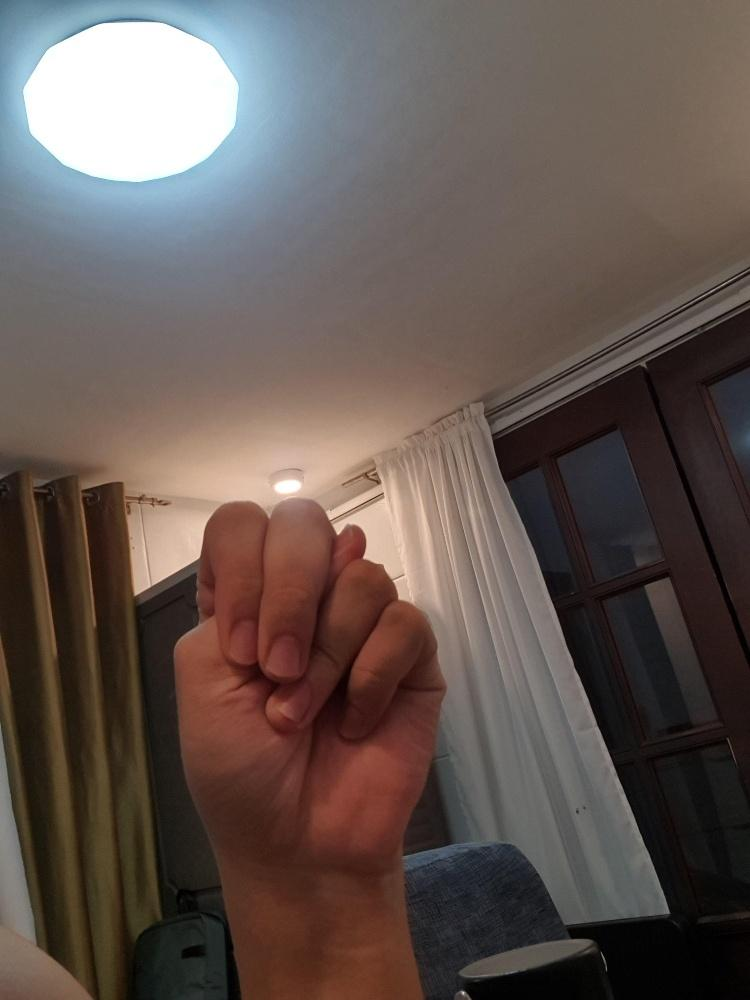n: (170, 493, 449, 882)
